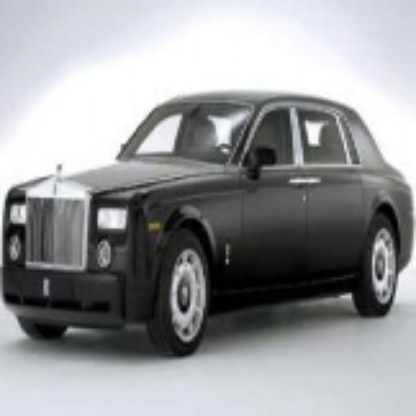Vehicle: (1, 71, 414, 394)
